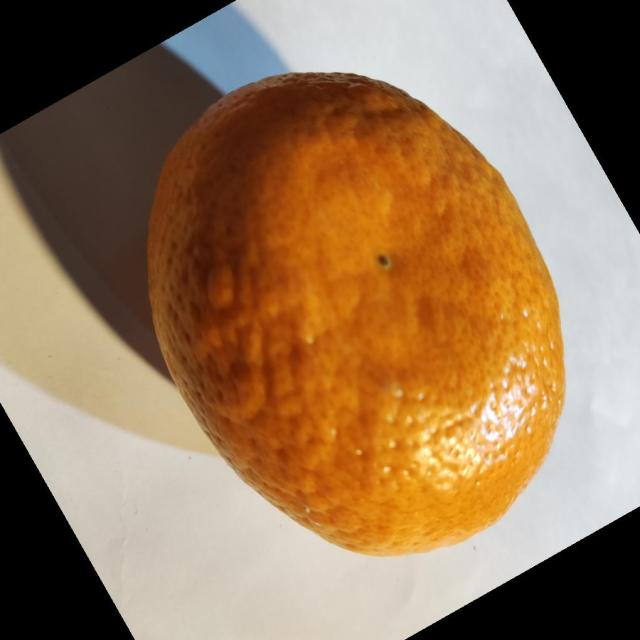fresh orange: (145, 70, 567, 557)
